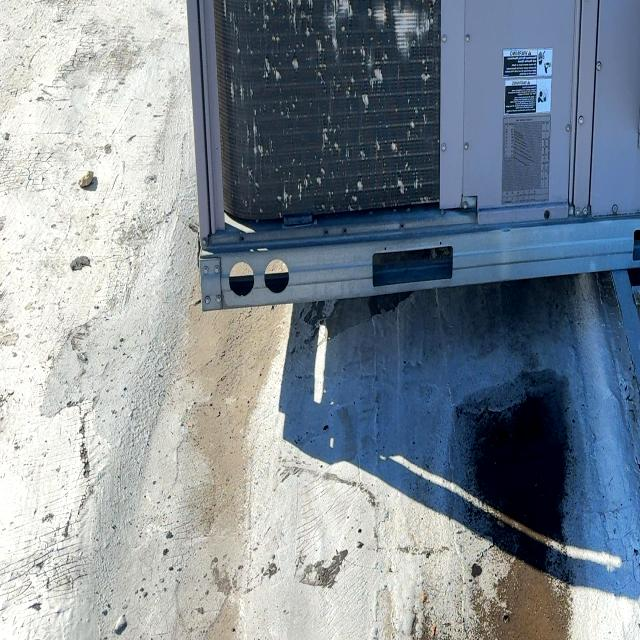RTU: (167, 0, 640, 342)
